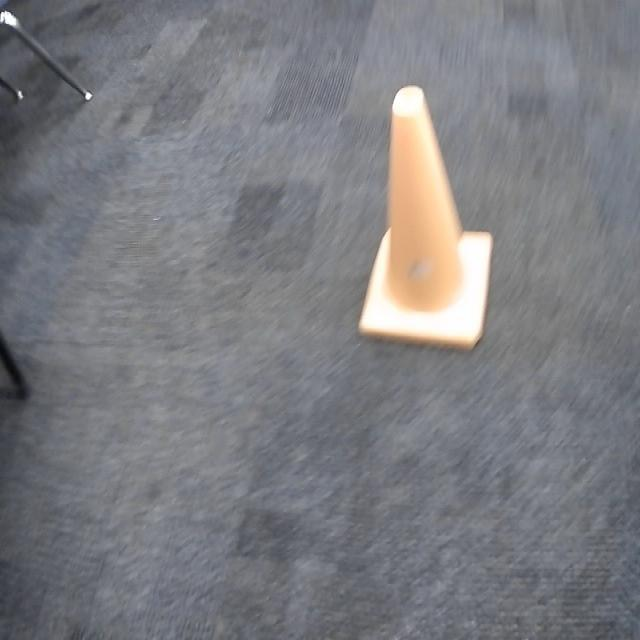cone: (357, 87, 494, 349)
